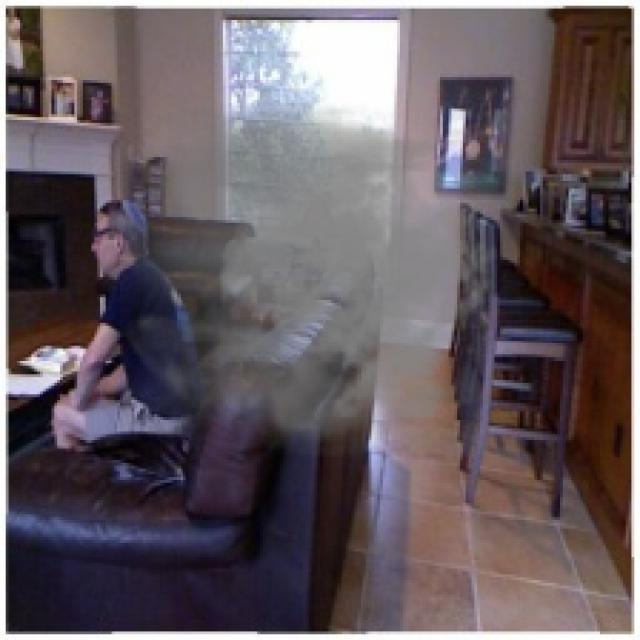Smoke: (120, 102, 500, 458)
